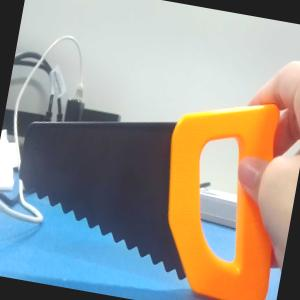serrote: (0, 61, 280, 300)
